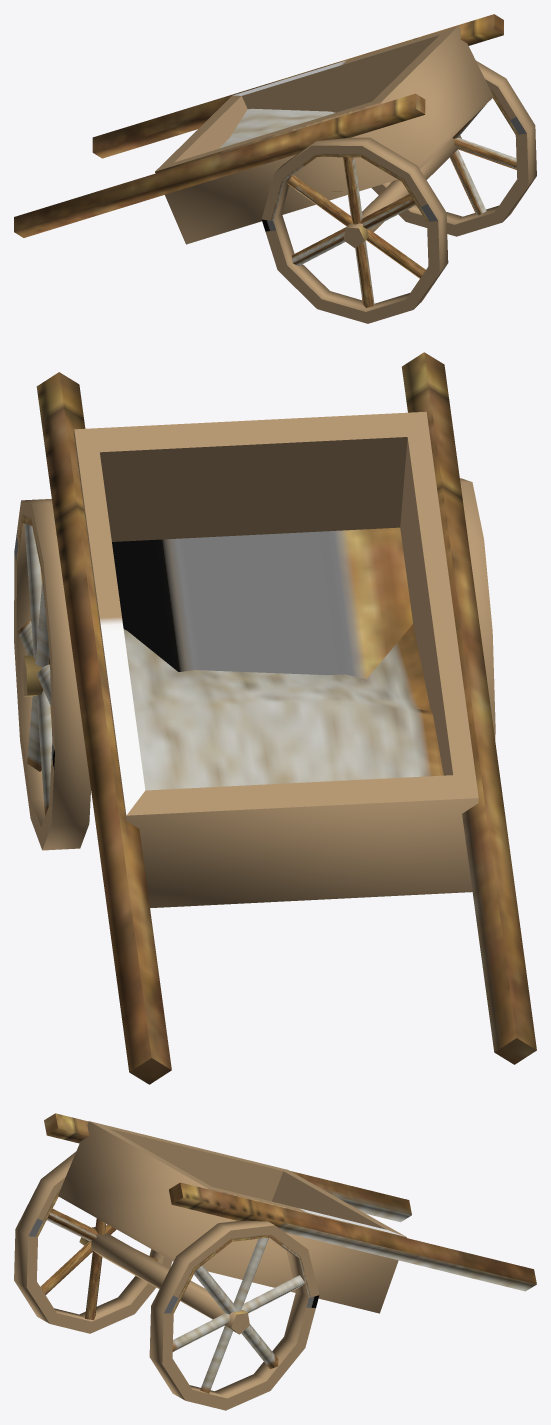
File: rome_farmstead_wood.dae
The picture shows the model from 3 angles, top to bottom: view 1: azimuth 30°, elevation 25°; view 2: azimuth 150°, elevation 25°; view 3: azimuth 270°, elevation 25°; orthographic projection. The views are drawn at different scales.
Parts seen in each view (by area): view 1: Farmstead__Struct_000; view 2: Farmstead__Struct_000; view 3: Farmstead__Struct_000.
Boxes of the visible parts, x1,y1,x2,y2 form: Farmstead__Struct_000: (14, 14, 536, 323); Farmstead__Struct_000: (14, 352, 536, 1084); Farmstead__Struct_000: (14, 1113, 536, 1410).
Bounding box in the file's own units: 4.33 × 4.78 × 2.33.
